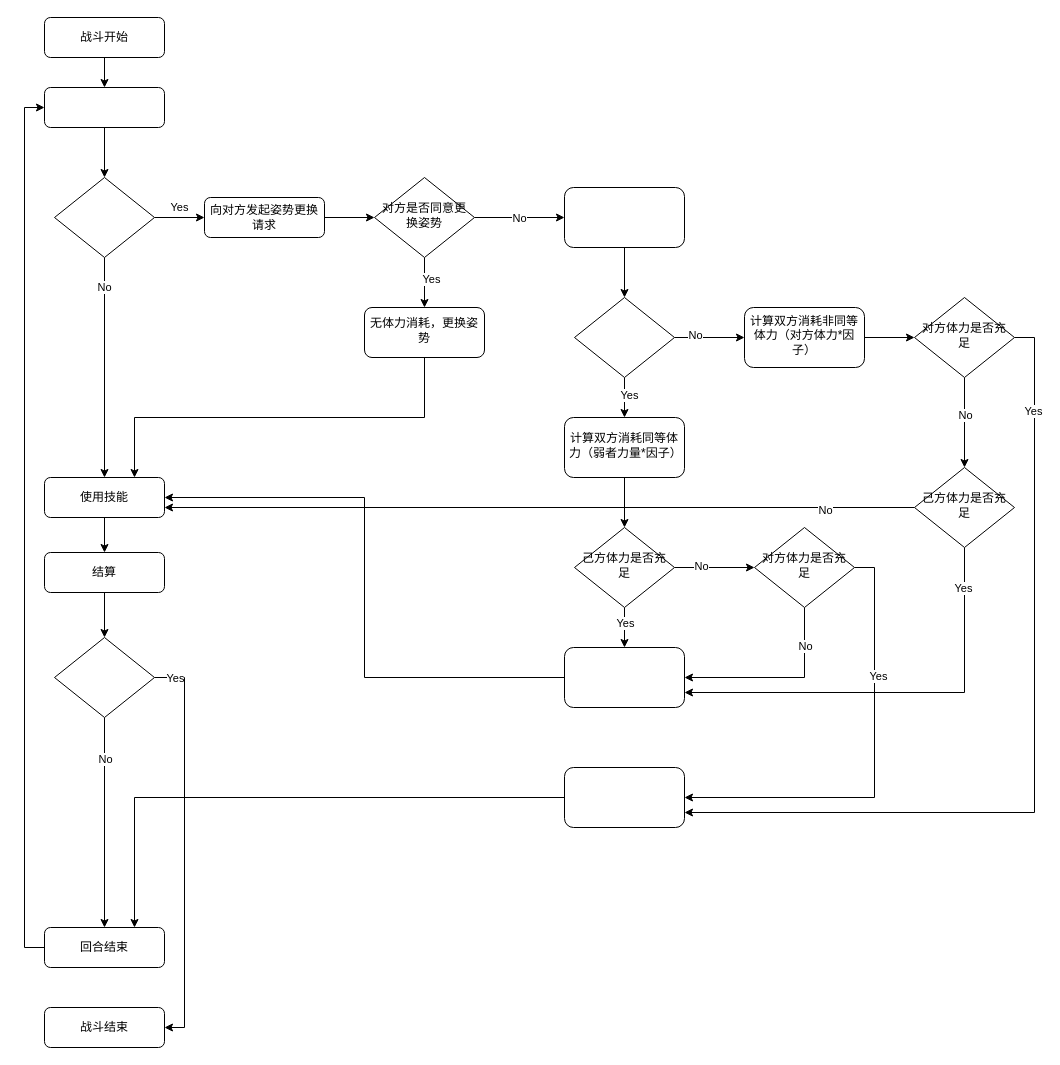
Image size: 1060x1065. Some labels were removed from this diagram. The box of each missing label's shape, as (x1, y1, x2, y2) in pixels:
判定战斗结束: (54, 636, 154, 718)
力量对比是否胜出: (574, 296, 674, 378)
双方消耗体力。姿势更换失败: (564, 766, 684, 828)
回合开始: (44, 86, 164, 128)
强行更换姿势，进行力量对比: (564, 186, 684, 248)
是否更换姿势: (54, 176, 154, 258)
消耗体力，完成姿势更换: (564, 646, 684, 708)
